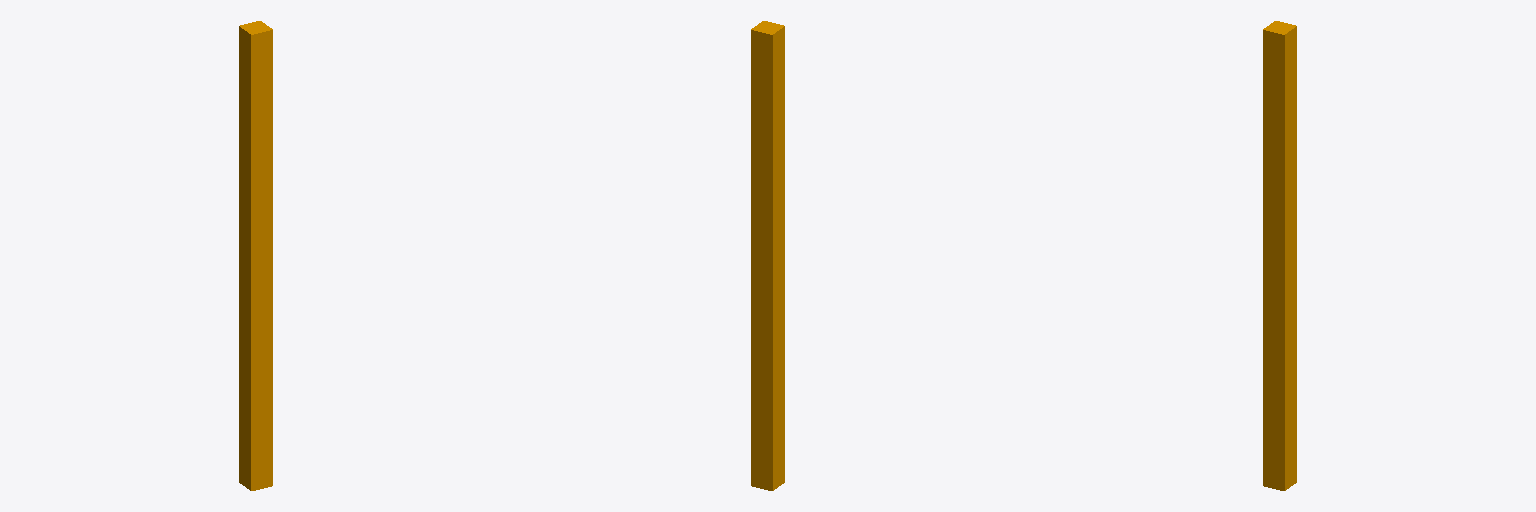
The robot description file, URDF, robot "eix_Z":
<robot name="eix_Z">
  <link name="eix_Z">
    <inertial>
      <origin xyz="0 0 0" /> 
      <mass value="0.1" />
      <inertia  ixx="1.0" ixy="0.0"  ixz="0.0"  iyy="1.0"  iyz="0.0"  izz="1.0" />
    </inertial>
    <visual>
      <origin xyz="0 0 -0.8" rpy="3.1416 3.1416 0"/>
      <geometry>
        <box size="0.01 0.01 0.2" />

      </geometry>
    </visual>
    <collision>
      <origin xyz="0 0 -0.8" rpy="3.1416 3.1416 0"/>
      <geometry>
        <box size="0.01 0.01 0.2" />
      </geometry>
    </collision>
  </link>
  <gazebo reference="eix_Z">
    <material>Gazebo/Blue</material>
    <turnGravityOff>true</turnGravityOff>
    <static>true</static>
  </gazebo>
</robot>

--- Render facts (derived) ---
The picture shows the robot from 3 angles, left to right: view 1: azimuth 30°, elevation 25°; view 2: azimuth 150°, elevation 25°; view 3: azimuth 330°, elevation 25°; orthographic projection.
Model eix_Z with 1 links and 0 joints (none), rooted at eix_Z, posed every joint at zero.
Visible links, largest first — view 1: eix_Z; view 2: eix_Z; view 3: eix_Z.
Link boxes in pixels (x1=…): eix_Z: x1=239, y1=21, x2=272, y2=490; eix_Z: x1=751, y1=21, x2=784, y2=490; eix_Z: x1=1263, y1=21, x2=1296, y2=490.
Bounding box of the posed robot: 0.01 × 0.01 × 0.2 m (x, y, z).
Geometry: primitives only (box / cylinder / sphere), no mesh files.
